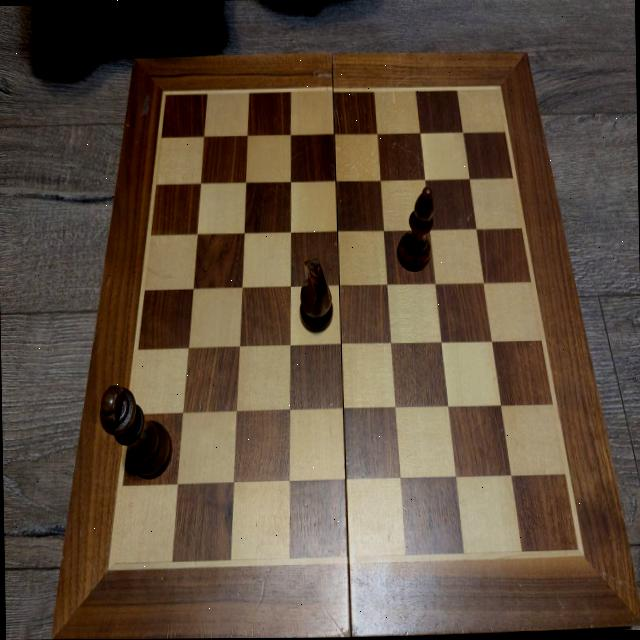black_bishop: (394, 186, 436, 272)
black_king: (97, 379, 173, 482)
black_knight: (297, 254, 334, 334)
